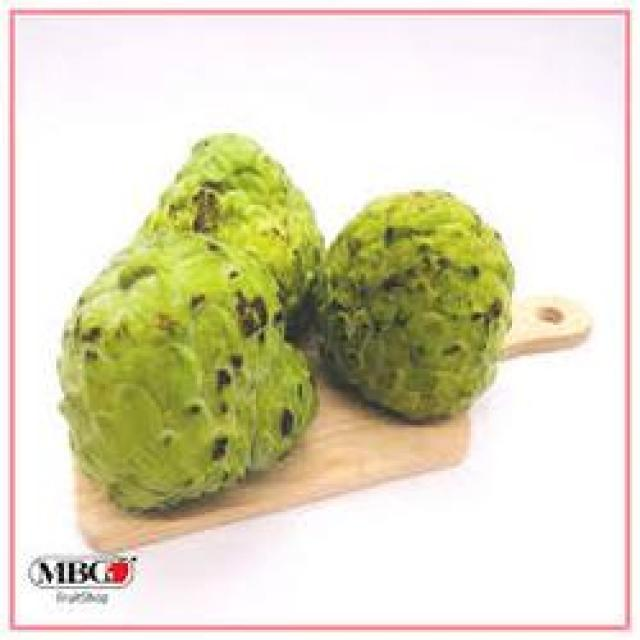custard_apple: (44, 233, 325, 502), (320, 169, 520, 417)
